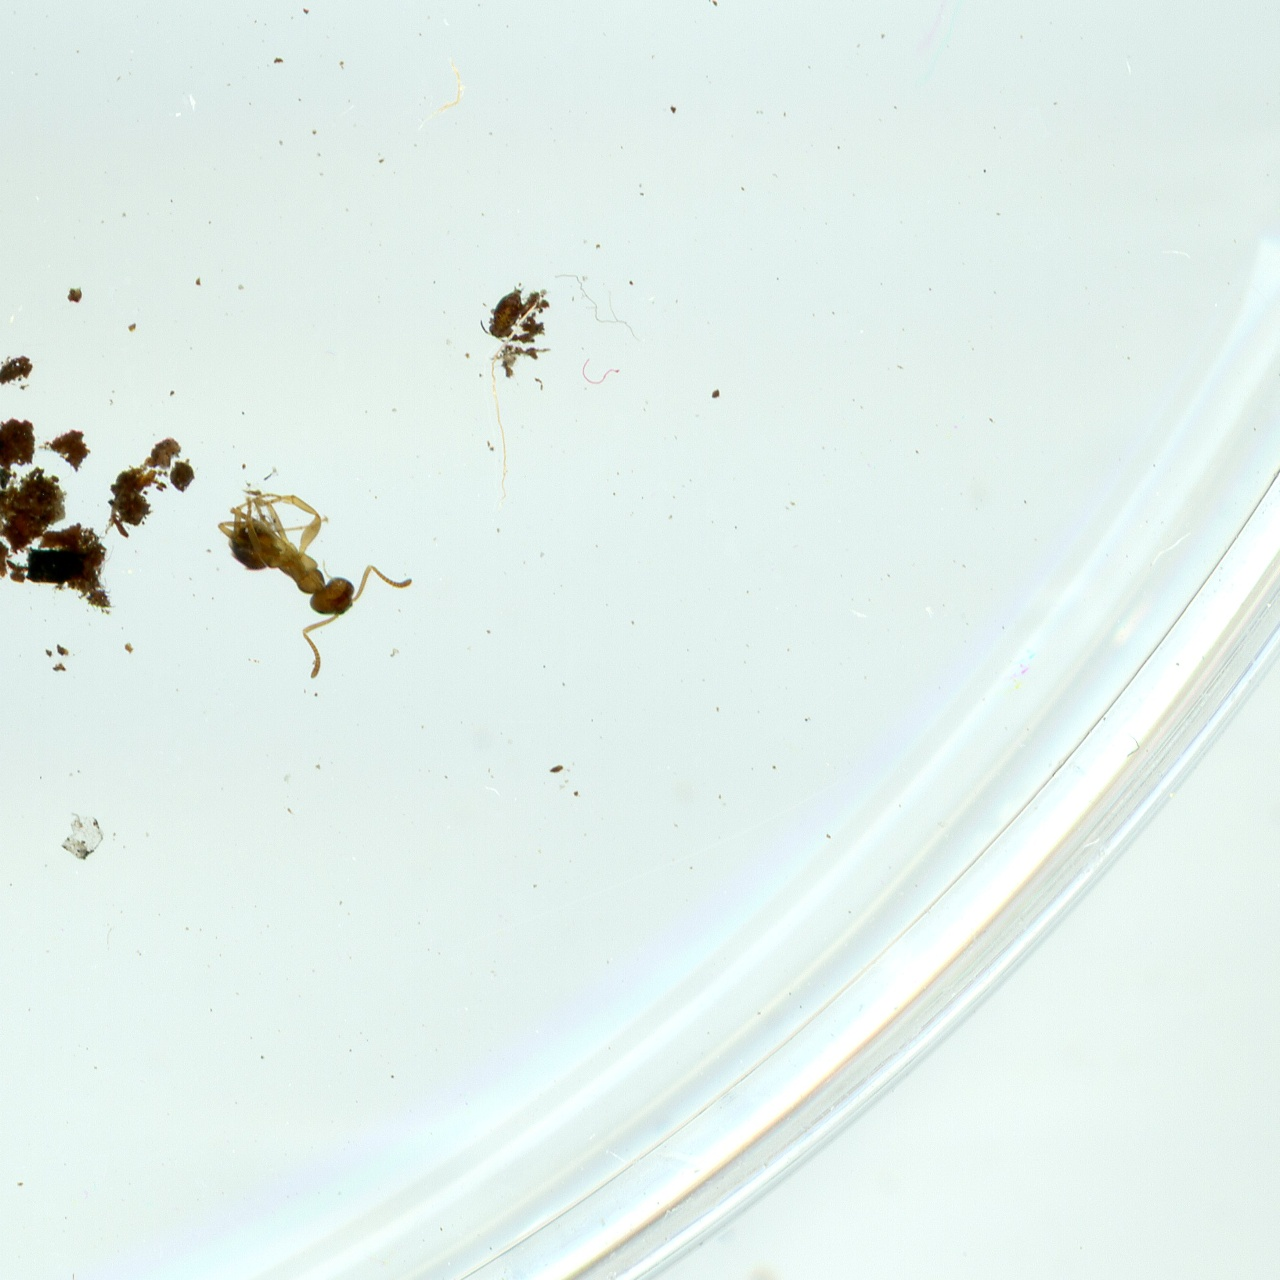arthropod: (181, 449, 420, 687), (474, 273, 535, 347)
